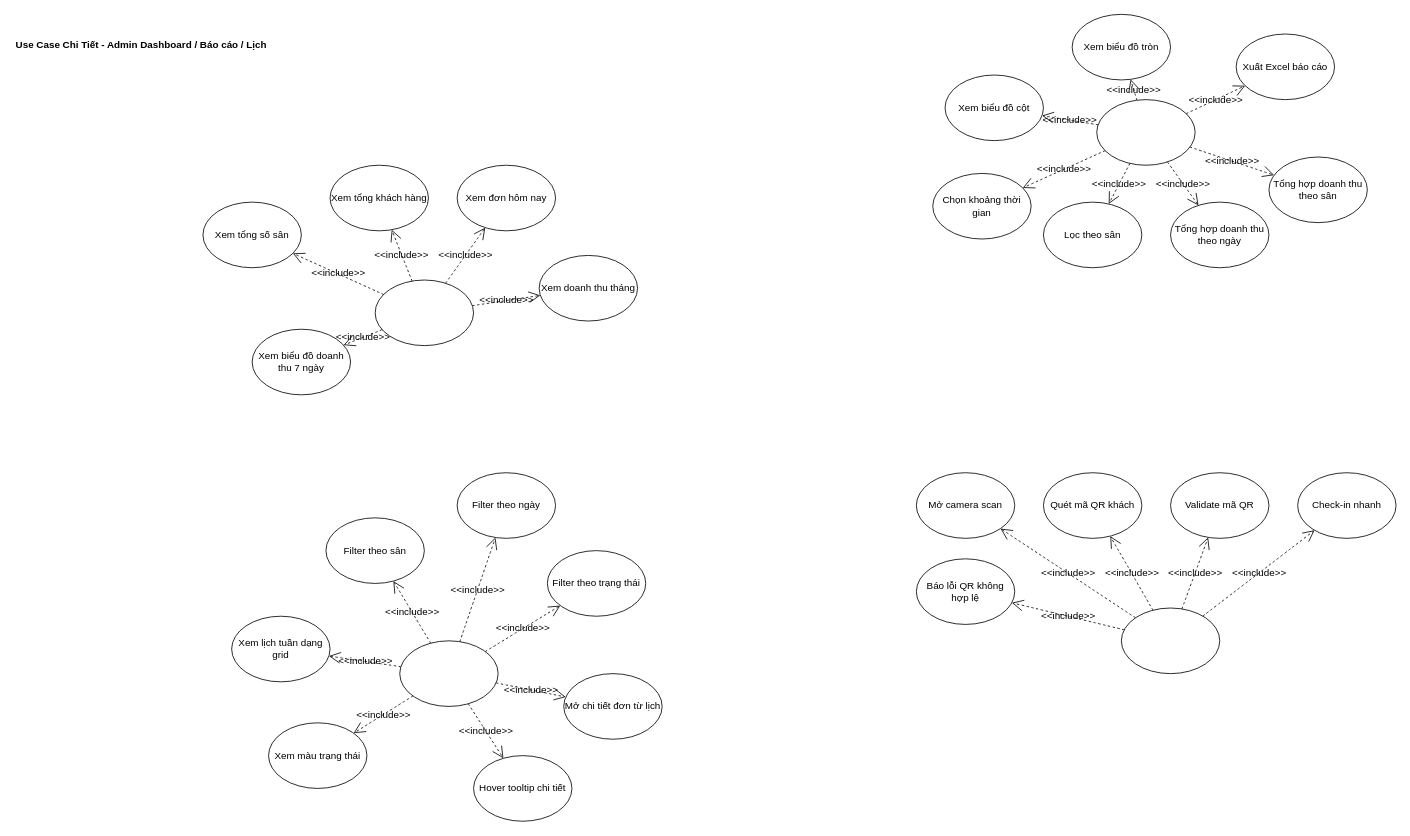
Image size: 1410x836. Some labels were removed from this diagram. Here are the shapes that lost their labels. From the top down, the centre of each, then its label:
point (1145, 132): Báo cáo doanh thu
point (424, 312): Dashboard
point (1170, 640): Quét QR
point (448, 673): Schedule Board
